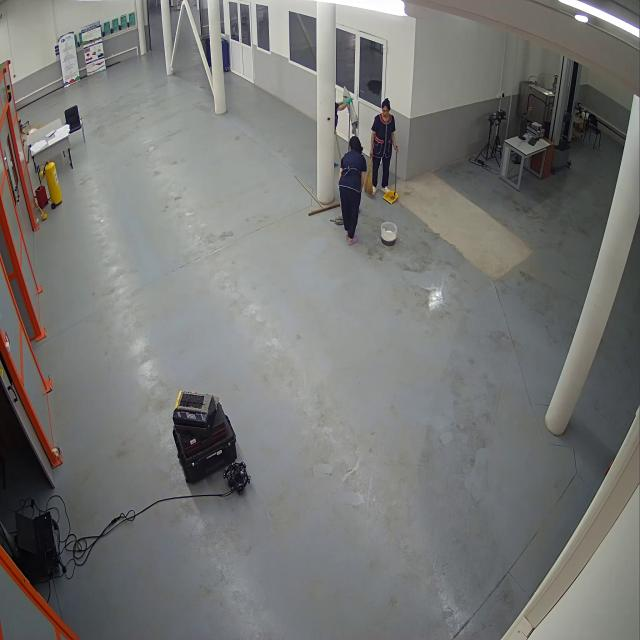NO-Hardhat: (350, 136, 362, 146), (381, 101, 394, 110)
Person: (367, 96, 403, 199), (338, 134, 370, 247), (336, 91, 352, 165)
